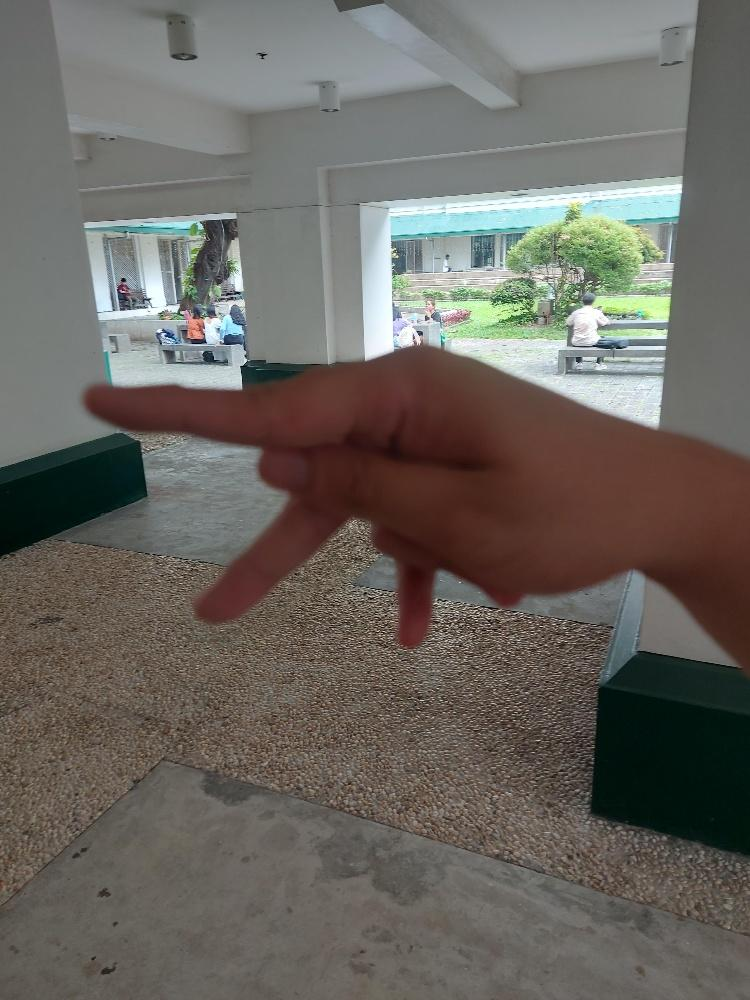p: (79, 340, 650, 650)
